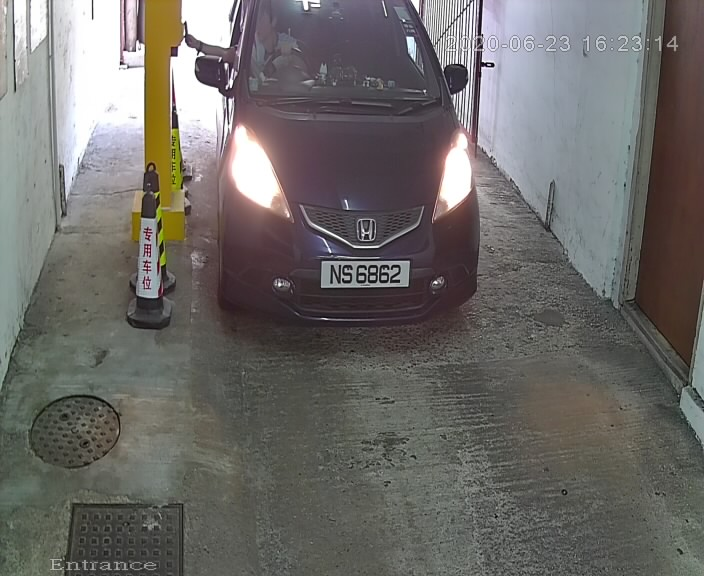privatecar: (188, 1, 496, 346)
